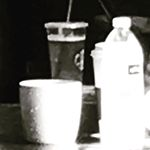cups: (15, 76, 84, 145)
